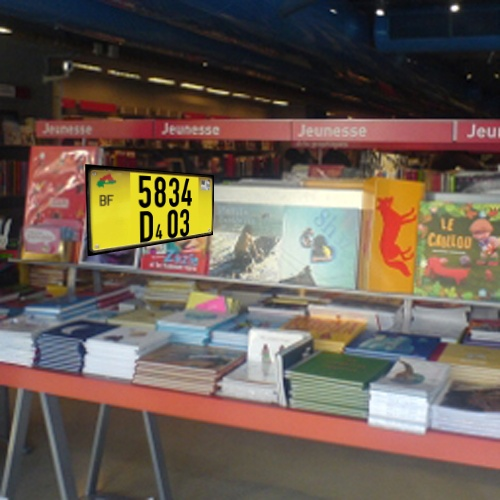plate: (72, 155, 238, 261)
